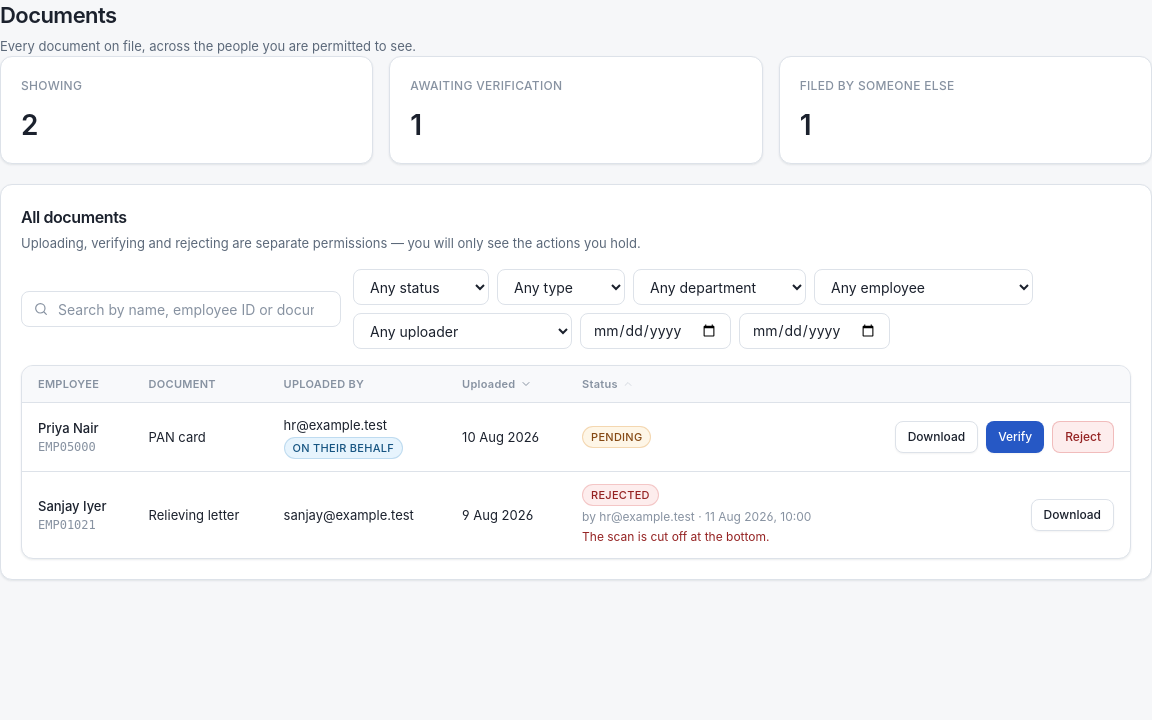
it: the rejection dialog › will not submit without a reason
This screenshot has width=1152, height=720.
Expected: the link "Priya Nair" is shown, [38, 420, 98, 436]
Click the button "Reject" at coordinates (1083, 437), box [1052, 421, 1114, 453]
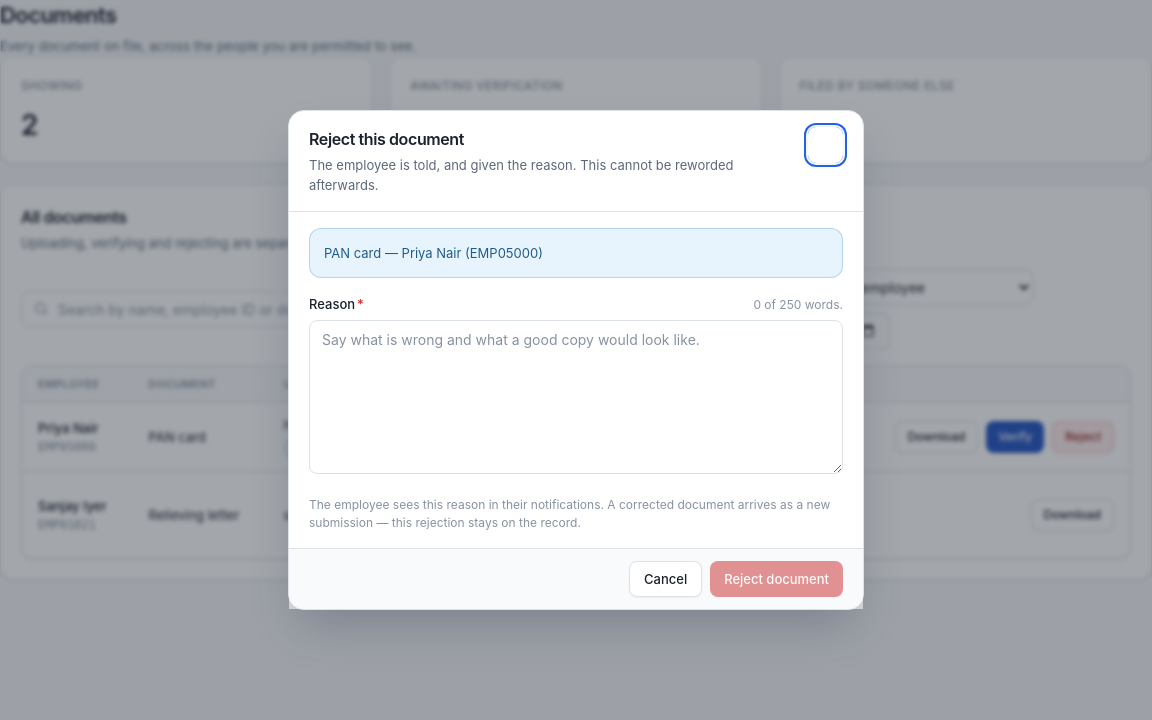
Expected: the button "Reject document" is disabled, [710, 561, 843, 597]
